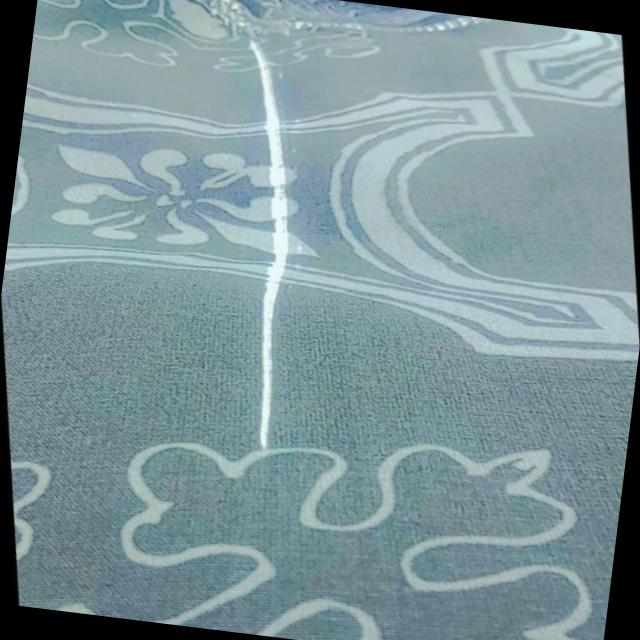selvet: (176, 19, 362, 459)
